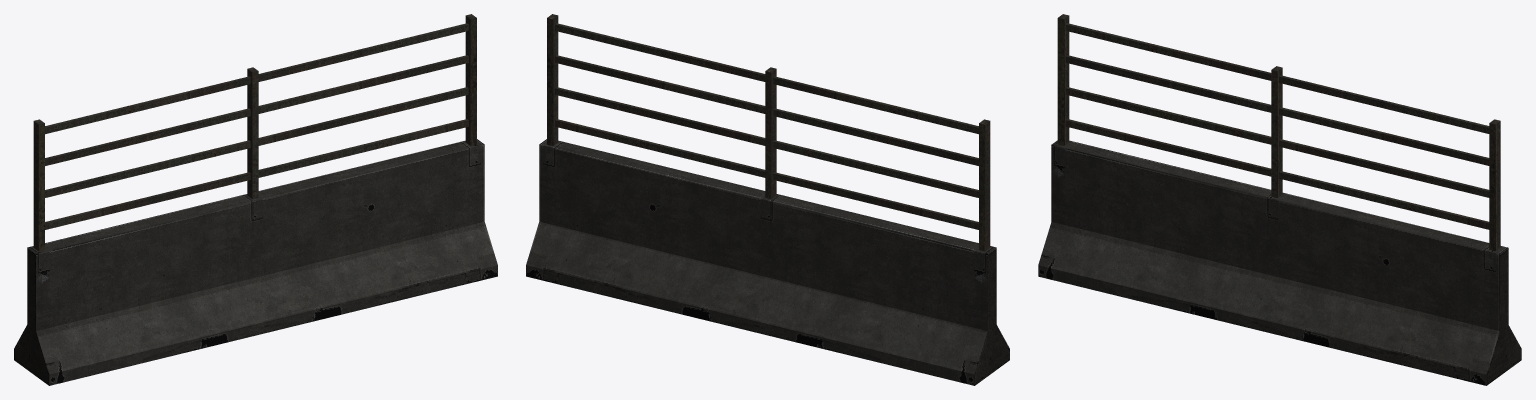
Rendered from barricade_b_3.glb.
3 renders of one model, left to right at view 1: azimuth 30°, elevation 25°; view 2: azimuth 150°, elevation 25°; view 3: azimuth 330°, elevation 25°, orthographic.
Parts seen in each view (by area): view 1: barricade_b_3; view 2: barricade_b_3; view 3: barricade_b_3.
Boxes of the visible parts, x1,y1,x2,y2 form: barricade_b_3: [14, 14, 497, 385]; barricade_b_3: [526, 14, 1009, 385]; barricade_b_3: [1038, 14, 1521, 385].
Bounding box in the file's own units: 2.94 × 1.56 × 0.4.
2 materials, 2 textured.
